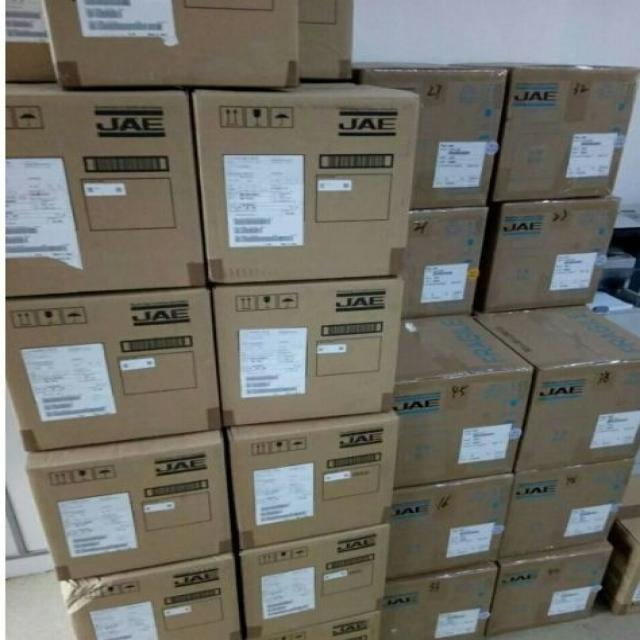box: (191, 80, 417, 286), (5, 83, 208, 300), (6, 287, 222, 455), (24, 429, 232, 582), (209, 279, 405, 429), (475, 308, 639, 472), (459, 63, 639, 202), (394, 314, 534, 491), (223, 412, 398, 552), (352, 61, 508, 211), (43, 1, 298, 89), (236, 526, 389, 639), (480, 196, 620, 315), (60, 555, 243, 639), (386, 472, 516, 580), (498, 459, 634, 559), (488, 542, 613, 635), (404, 207, 490, 320), (382, 561, 496, 639), (298, 1, 354, 81), (4, 1, 58, 83), (596, 516, 639, 617), (261, 608, 383, 639), (618, 458, 639, 521)
